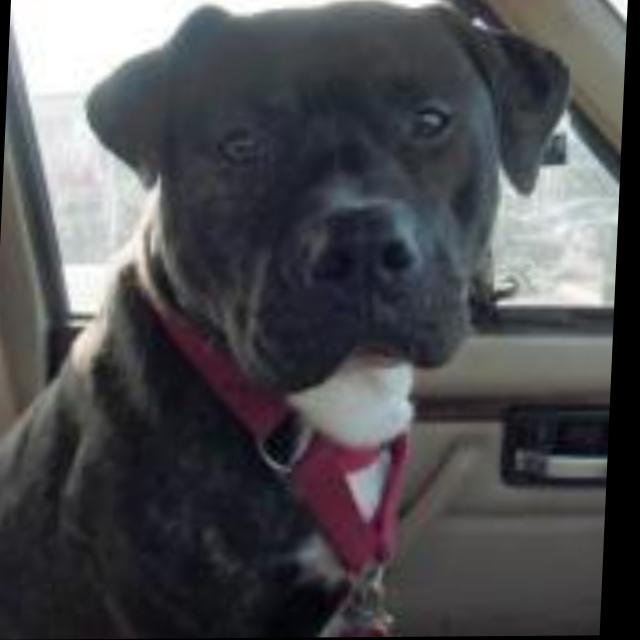amstaff: (1, 1, 578, 640)
